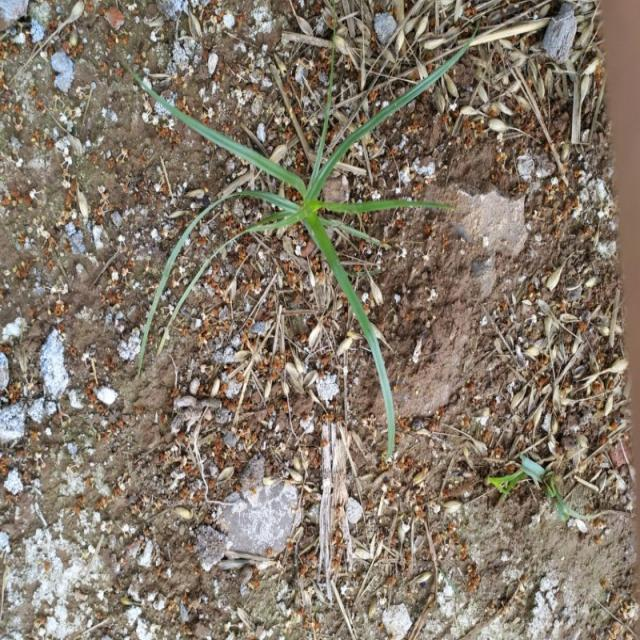sedge: (135, 23, 440, 420)
